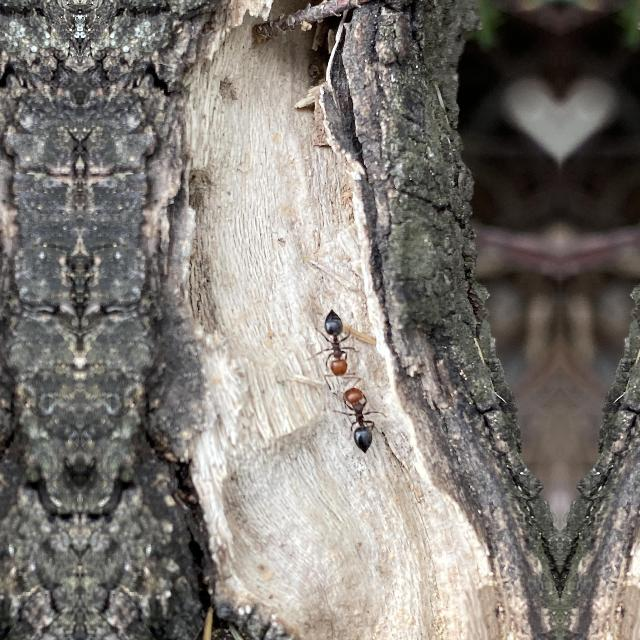Crematogaster: (334, 379, 380, 456), (308, 309, 357, 379)
